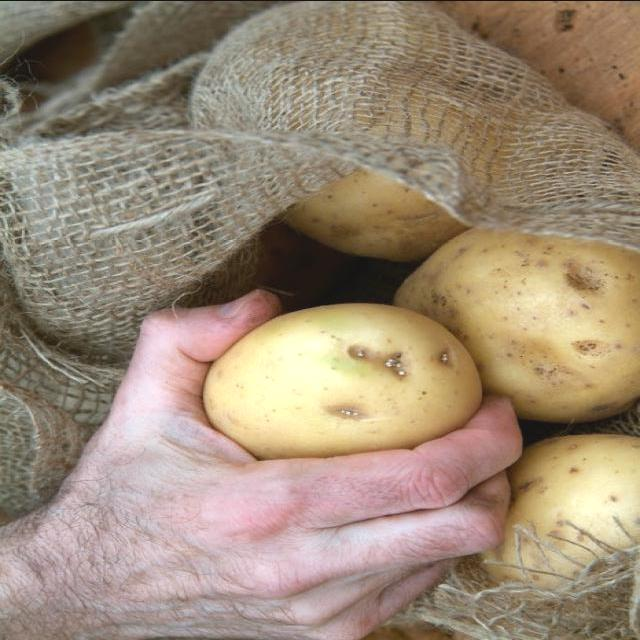potato: (401, 223, 640, 420), (205, 303, 482, 459), (276, 97, 489, 257), (483, 433, 640, 582)
